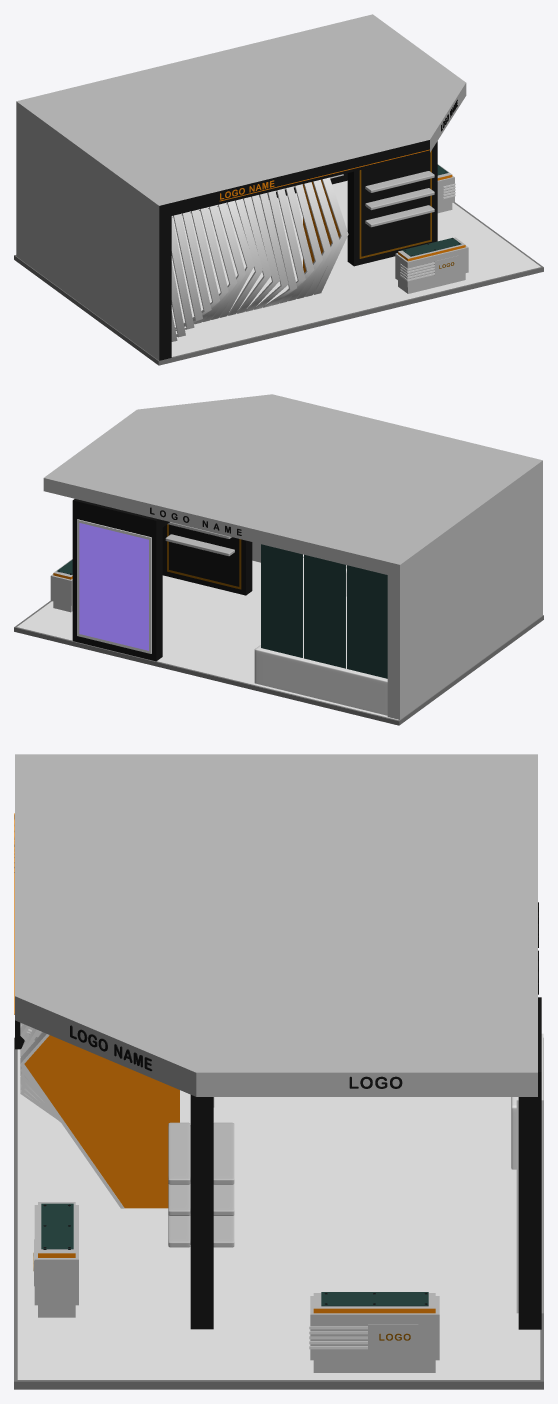
File: Pavilion_vray.fbx
3 renders of one model, top to bottom at view 1: azimuth 30°, elevation 25°; view 2: azimuth 150°, elevation 25°; view 3: azimuth 270°, elevation 25°, orthographic. The views are drawn at different scales.
Parts seen in each view (by area): view 1: Pavilion_002, Pavilion_004, Pavilion_010, Pavilion_003, Pavilion_001, Pavilion_008, Pavilion_009, Pavilion_007, Pavilion_049, Pavilion_051, Pavilion_050, Pavilion_020; view 2: Pavilion_002, Pavilion_010, Pavilion_046, Pavilion_003, Pavilion_011, Pavilion_013, Pavilion_014, Pavilion_012, Pavilion_001, Pavilion_028, Pavilion_054; view 3: Pavilion_002, Pavilion_010, Pavilion_007, Pavilion_003, Pavilion_001, Pavilion_028, Pavilion_029, Pavilion_008, Pavilion_038, Pavilion_020, Pavilion_051, Pavilion_052 (+4 smaller).
Boxes of the visible parts, x1,y1,x2,y2 form: Pavilion_002: (16, 14, 466, 360); Pavilion_004: (171, 177, 348, 341); Pavilion_010: (171, 180, 540, 356); Pavilion_003: (259, 141, 437, 266); Pavilion_001: (14, 199, 543, 365); Pavilion_008: (395, 246, 468, 287); Pavilion_009: (398, 237, 465, 293); Pavilion_007: (303, 179, 340, 272); Pavilion_049: (365, 205, 434, 227); Pavilion_051: (365, 171, 434, 192); Pavilion_050: (365, 188, 434, 210); Pavilion_020: (402, 237, 461, 256); Pavilion_002: (43, 394, 542, 719); Pavilion_010: (17, 557, 398, 719); Pavilion_046: (77, 519, 151, 653); Pavilion_003: (72, 499, 252, 661); Pavilion_011: (254, 645, 387, 715); Pavilion_013: (304, 554, 345, 668); Pavilion_014: (261, 544, 302, 657); Pavilion_012: (347, 565, 387, 678); Pavilion_001: (14, 556, 543, 725); Pavilion_028: (50, 574, 72, 605); Pavilion_054: (165, 534, 234, 556); Pavilion_002: (15, 754, 537, 1096); Pavilion_010: (17, 1049, 540, 1379); Pavilion_007: (24, 1035, 179, 1208); Pavilion_003: (190, 997, 541, 1329); Pavilion_001: (14, 1037, 543, 1389); Pavilion_028: (310, 1296, 439, 1360); Pavilion_029: (313, 1293, 435, 1372); Pavilion_008: (34, 1205, 78, 1305); Pavilion_038: (321, 1292, 428, 1306); Pavilion_020: (41, 1203, 73, 1249); Pavilion_051: (168, 1122, 190, 1184); Pavilion_052: (213, 1122, 234, 1184).
Bounding box in the file's own units: 921 × 364 × 600.
